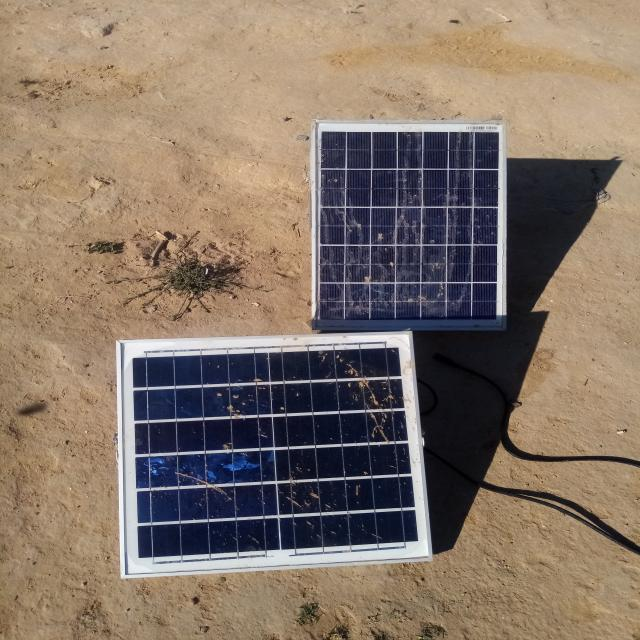faulty: (119, 332, 427, 577), (310, 120, 507, 326)
